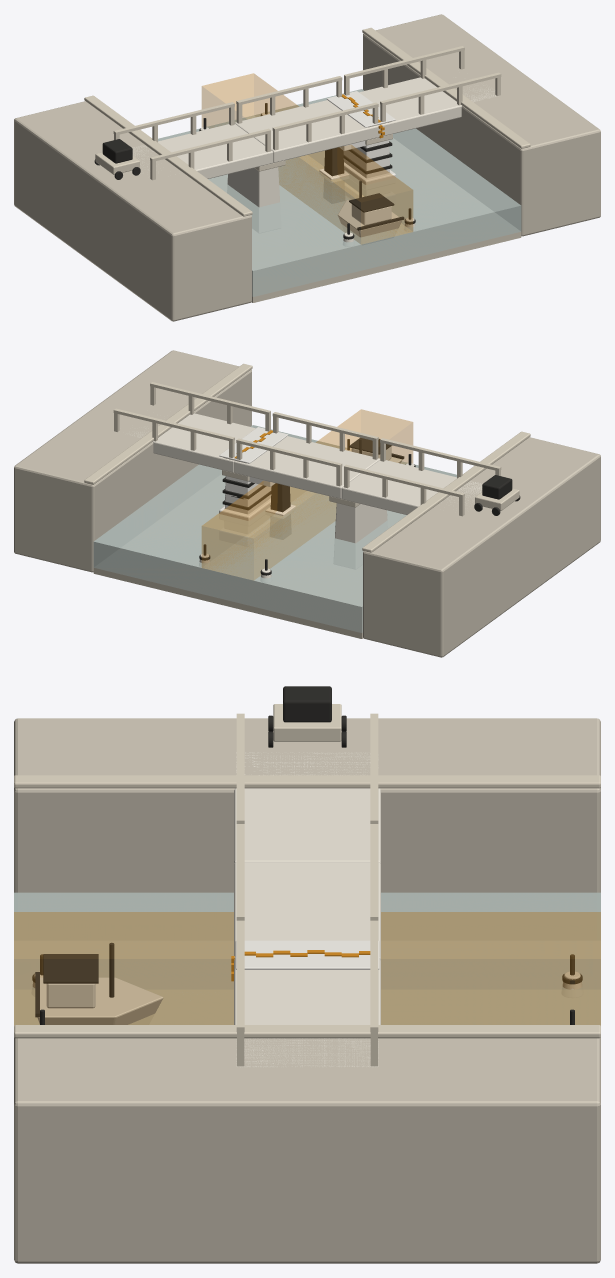
3 views of the same model, one above another, from view 1: azimuth 30°, elevation 25°; view 2: azimuth 150°, elevation 25°; view 3: azimuth 270°, elevation 25° (orthographic). The views are drawn at different scales.
Visible parts, largest first — view 1: Bank_W, Water, Bank_E, Clearance, ChannelBed, Deck_C, Deck_W, Deck_E, Pier1, Coping_W, Coping_E, Rail_S_E (+14 smaller); view 2: Bank_W, Water, Bank_E, Clearance, ChannelBed, Deck_C, Deck_W, Deck_E, Pier1, Coping_W, Coping_E, Rail_N_E (+11 smaller); view 3: Bank_E, Bank_W, Water, Clearance, Deck_W, Deck_C, Deck_E, Coping_E, Coping_W, Repair_Patch, Boat_hull, Cart_load (+9 smaller).
Boxes of the visible parts, x1=… form: Bank_W: x1=14, y1=101, x2=251, y2=321; Water: x1=158, y1=89, x2=521, y2=296; Bank_E: x1=363, y1=14, x2=600, y2=236; Clearance: x1=202, y1=73, x2=412, y2=244; ChannelBed: x1=209, y1=138, x2=521, y2=302; Deck_C: x1=234, y1=100, x2=380, y2=162; Deck_W: x1=132, y1=124, x2=273, y2=178; Deck_E: x1=359, y1=77, x2=496, y2=136; Pier1: x1=227, y1=167, x2=280, y2=232; Coping_W: x1=84, y1=95, x2=252, y2=216; Coping_E: x1=362, y1=27, x2=530, y2=148; Rail_S_E: x1=380, y1=72, x2=501, y2=124; Bank_W: x1=363, y1=437, x2=600, y2=657; Water: x1=93, y1=425, x2=456, y2=632; Bank_E: x1=14, y1=350, x2=251, y2=572; Clearance: x1=202, y1=409, x2=412, y2=580; ChannelBed: x1=93, y1=474, x2=405, y2=638; Deck_C: x1=234, y1=436, x2=380, y2=498; Deck_W: x1=341, y1=460, x2=482, y2=514; Deck_E: x1=130, y1=413, x2=255, y2=472; Pier1: x1=334, y1=503, x2=387, y2=568; Coping_W: x1=362, y1=431, x2=530, y2=552; Coping_E: x1=84, y1=363, x2=252, y2=484; Rail_N_E: x1=113, y1=408, x2=234, y2=460; Bank_E: x1=14, y1=1037, x2=600, y2=1263; Bank_W: x1=14, y1=718, x2=600, y2=911; Water: x1=14, y1=892, x2=600, y2=1025; Clearance: x1=14, y1=912, x2=600, y2=1025; Deck_W: x1=234, y1=752, x2=380, y2=863; Deck_C: x1=234, y1=862, x2=380, y2=960; Deck_E: x1=234, y1=959, x2=380, y2=1067; Coping_E: x1=14, y1=1025, x2=600, y2=1038; Coping_W: x1=14, y1=775, x2=600, y2=788; Repair_Patch: x1=235, y1=940, x2=379, y2=969; Boat_hull: x1=37, y1=977, x2=163, y2=1024; Cart_load: x1=283, y1=686, x2=331, y2=722.
Size of the model in its own units: 11.2 by 2.82 by 7.2.
